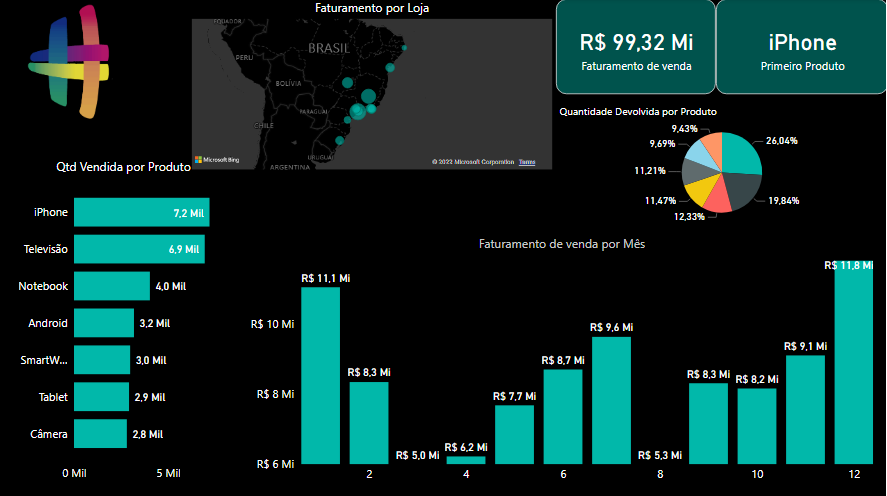

What the dashboard file says about the page in this screenshot:
{"tool":"powerbi","page":{"name":"Página 1","canvas":[1280,720],"ordinal":0},"visuals":[{"type":"image","box":[10.1,0,178.6,178.6],"z":0},{"type":"barChart","fields":{"Y":["Sum(Base Vendas.Qtd Vendida)"],"Category":["Base Vendas.Produto"]},"box":[10.1,229,338.4,473.8],"z":1000},{"type":"card","fields":{"Values":["Sum(Base Vendas.Faturamento de venda)"]},"box":[802.1,0,230.4,136.8],"z":1001},{"type":"card","fields":{"Values":["Min(Base Vendas.Produto)"]},"box":[1032.5,0,247.7,136.8],"z":1002},{"type":"columnChart","fields":{"Y":["Sum(Base Vendas.Faturamento de venda)"],"Category":["Base Vendas.Mês"]},"box":[357.8,339.3,907.1,364.5],"z":1003},{"type":"pieChart","fields":{"Y":["Sum(Base Devoluções.Quantidade Devolvida)"],"Category":["Base Devoluções.Produto"]},"box":[802.1,151.2,478.1,177.1],"z":1004},{"type":"map","title":"Faturamento por Loja","fields":{"Category":["Base Vendas.Loja"],"Size":["Sum(Base Vendas.Faturamento de venda)"]},"box":[272.2,0,529.9,250.6],"z":1005}]}

Visuals, with their boxes in screenshot pixels (x1, y1, x2, y2), scaled from the page's 1280x720 canvas onto the 887x496 screenshot:
image: box(7, 0, 131, 123)
barChart - Sum(Base Vendas.Qtd Vendida) x Base Vendas.Produto: box(7, 158, 241, 484)
card - Sum(Base Vendas.Faturamento de venda): box(556, 0, 715, 94)
card - Min(Base Vendas.Produto): box(715, 0, 886, 94)
columnChart - Sum(Base Vendas.Faturamento de venda) x Base Vendas.Mês: box(248, 234, 877, 485)
pieChart - Sum(Base Devoluções.Quantidade Devolvida) x Base Devoluções.Produto: box(556, 104, 886, 226)
"Faturamento por Loja" map: box(189, 0, 556, 173)
